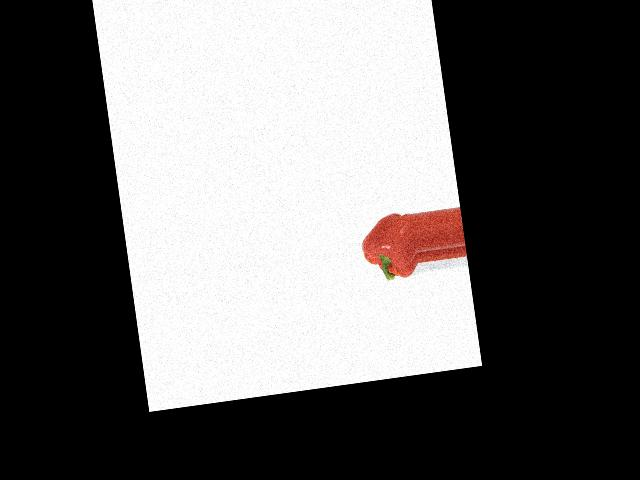bell_pepper: (356, 203, 421, 292)
